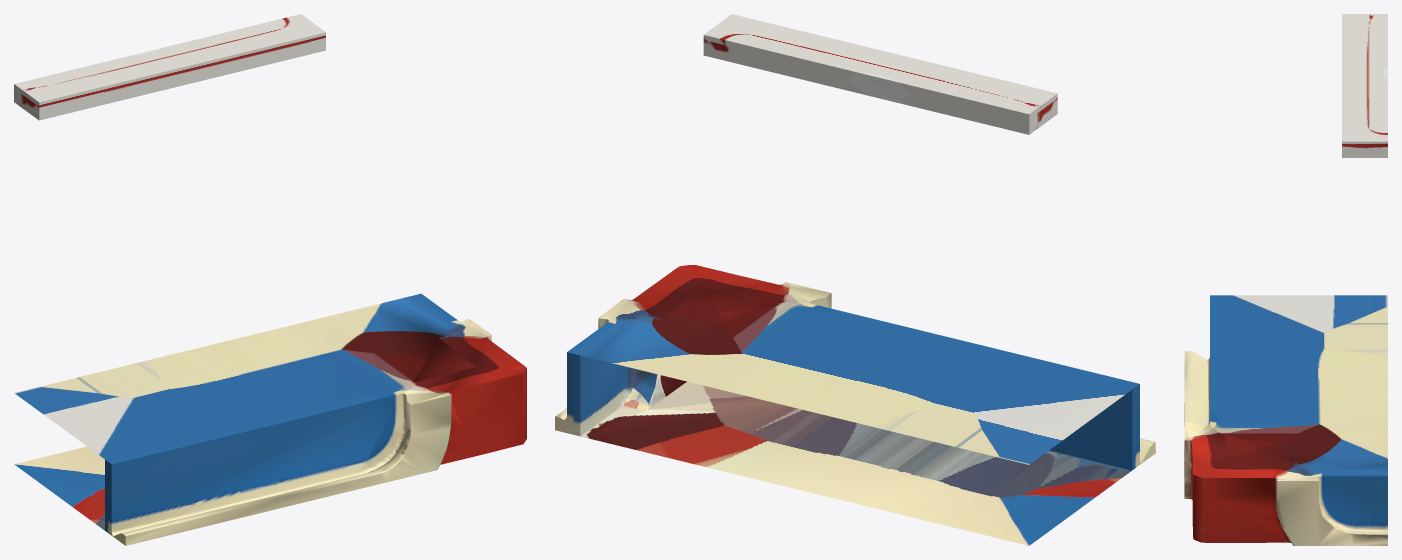
File: 10-roof-front-right.fbx
3 views of the same model, side by side, from view 1: azimuth 30°, elevation 25°; view 2: azimuth 150°, elevation 25°; view 3: azimuth 270°, elevation 25° (orthographic). The views are drawn at different scales.
Parts seen in each view (by area): view 1: roof-front-right; view 2: roof-front-right; view 3: roof-front-right.
Boxes of the visible parts, left/top/right/bottom form: roof-front-right: left=14, top=14, right=526, bottom=545; roof-front-right: left=555, top=14, right=1155, bottom=545; roof-front-right: left=1184, top=14, right=1387, bottom=545.
Size of the model in its own units: 4806 by 4180 by 2228.
Materials: 1 (1 with a texture image).
